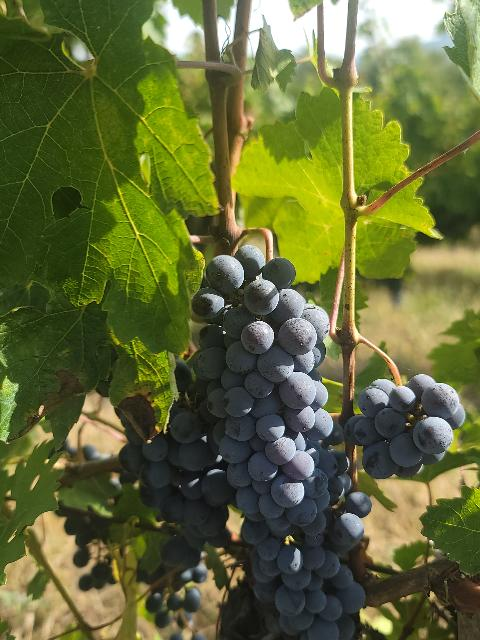grapes: (192, 245, 348, 618), (344, 375, 465, 479)
